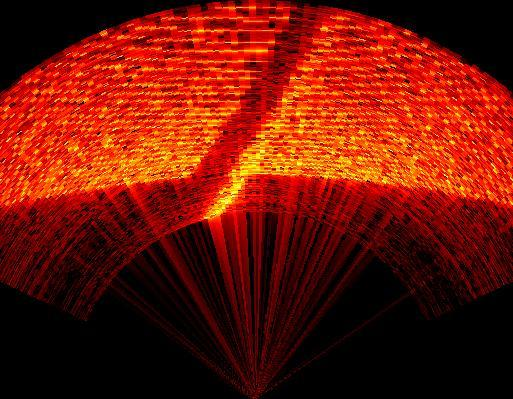pipe: (189, 4, 330, 180)
